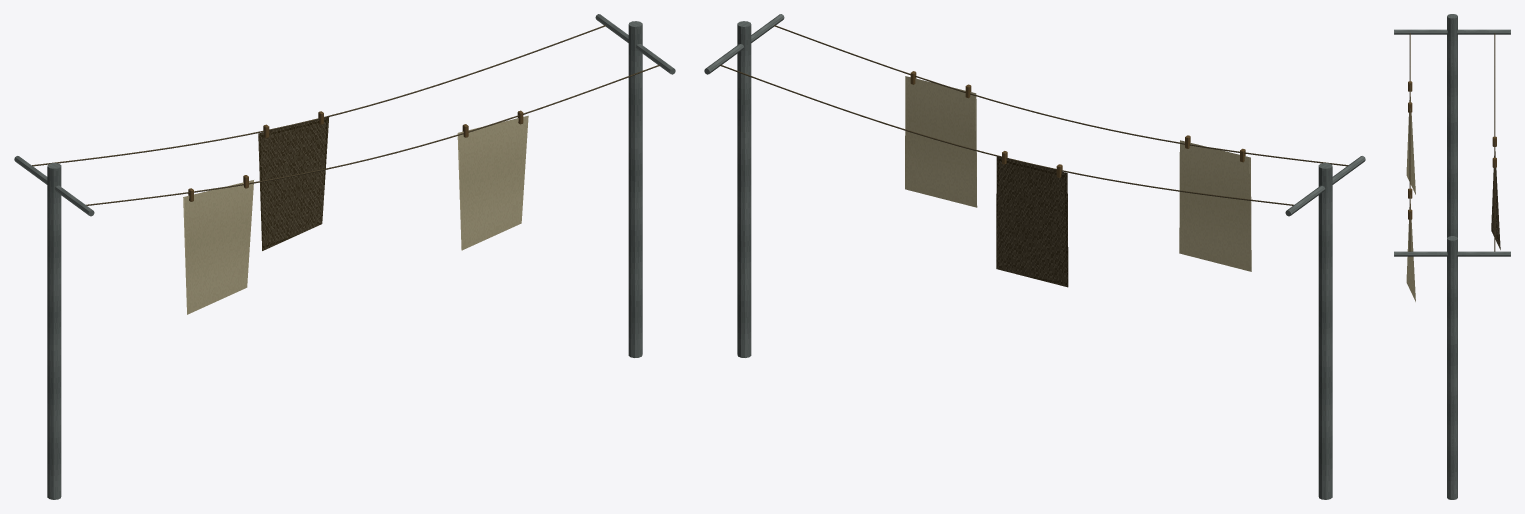
The model's file is level_yard_clothesline.glb.
3 views of the same model, side by side, from view 1: azimuth 30°, elevation 25°; view 2: azimuth 150°, elevation 25°; view 3: azimuth 270°, elevation 25° (orthographic). The views are drawn at different scales.
Visible parts, largest first — view 1: level_yard_clothesline; view 2: level_yard_clothesline; view 3: level_yard_clothesline.
Part boxes in pixels (x1,y1,x2,y2): level_yard_clothesline: (14, 14, 675, 499); level_yard_clothesline: (704, 14, 1365, 499); level_yard_clothesline: (1394, 14, 1510, 499).
Size of the model in its own units: 3.67 by 1.96 by 0.8.
Materials: 4 (4 with a texture image).
